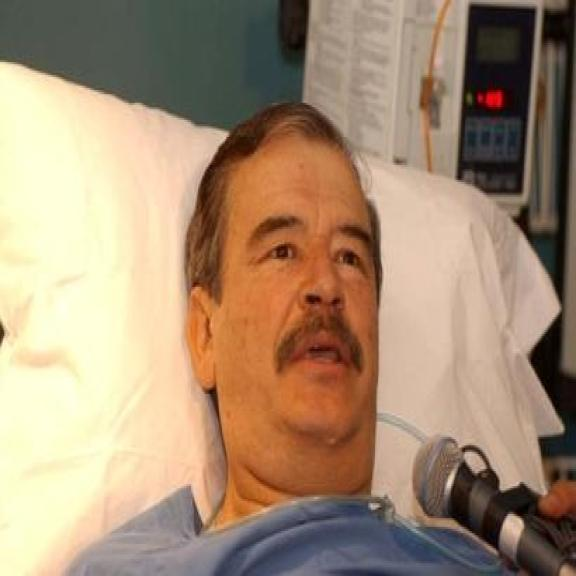face: (184, 144, 380, 462)
